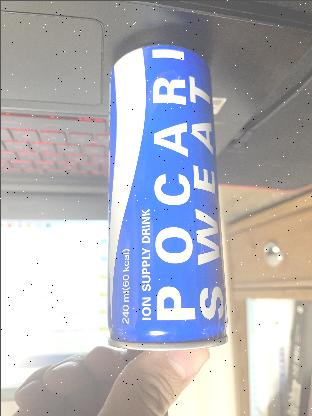Can: (104, 41, 229, 353)
